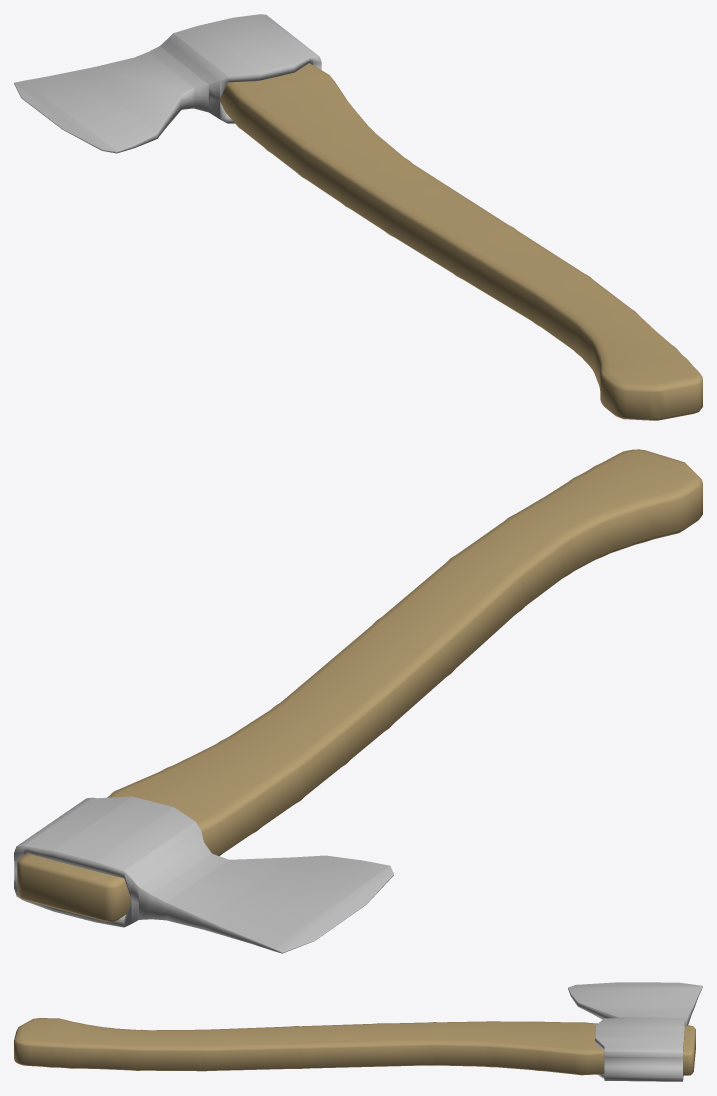
Rendered from axe.fbx.
The picture shows the model from 3 angles, top to bottom: view 1: azimuth 30°, elevation 25°; view 2: azimuth 150°, elevation 25°; view 3: azimuth 270°, elevation 25°; orthographic projection. The views are drawn at different scales.
Visible parts, largest first — view 1: Axe1; view 2: Axe1; view 3: Axe1.
Boxes of the visible parts, left/top/right/bottom form: Axe1: left=14, top=14, right=702, bottom=420; Axe1: left=14, top=449, right=702, bottom=953; Axe1: left=14, top=982, right=702, bottom=1081.
Size of the model in its own units: 21.05 by 4.1 by 71.67.
